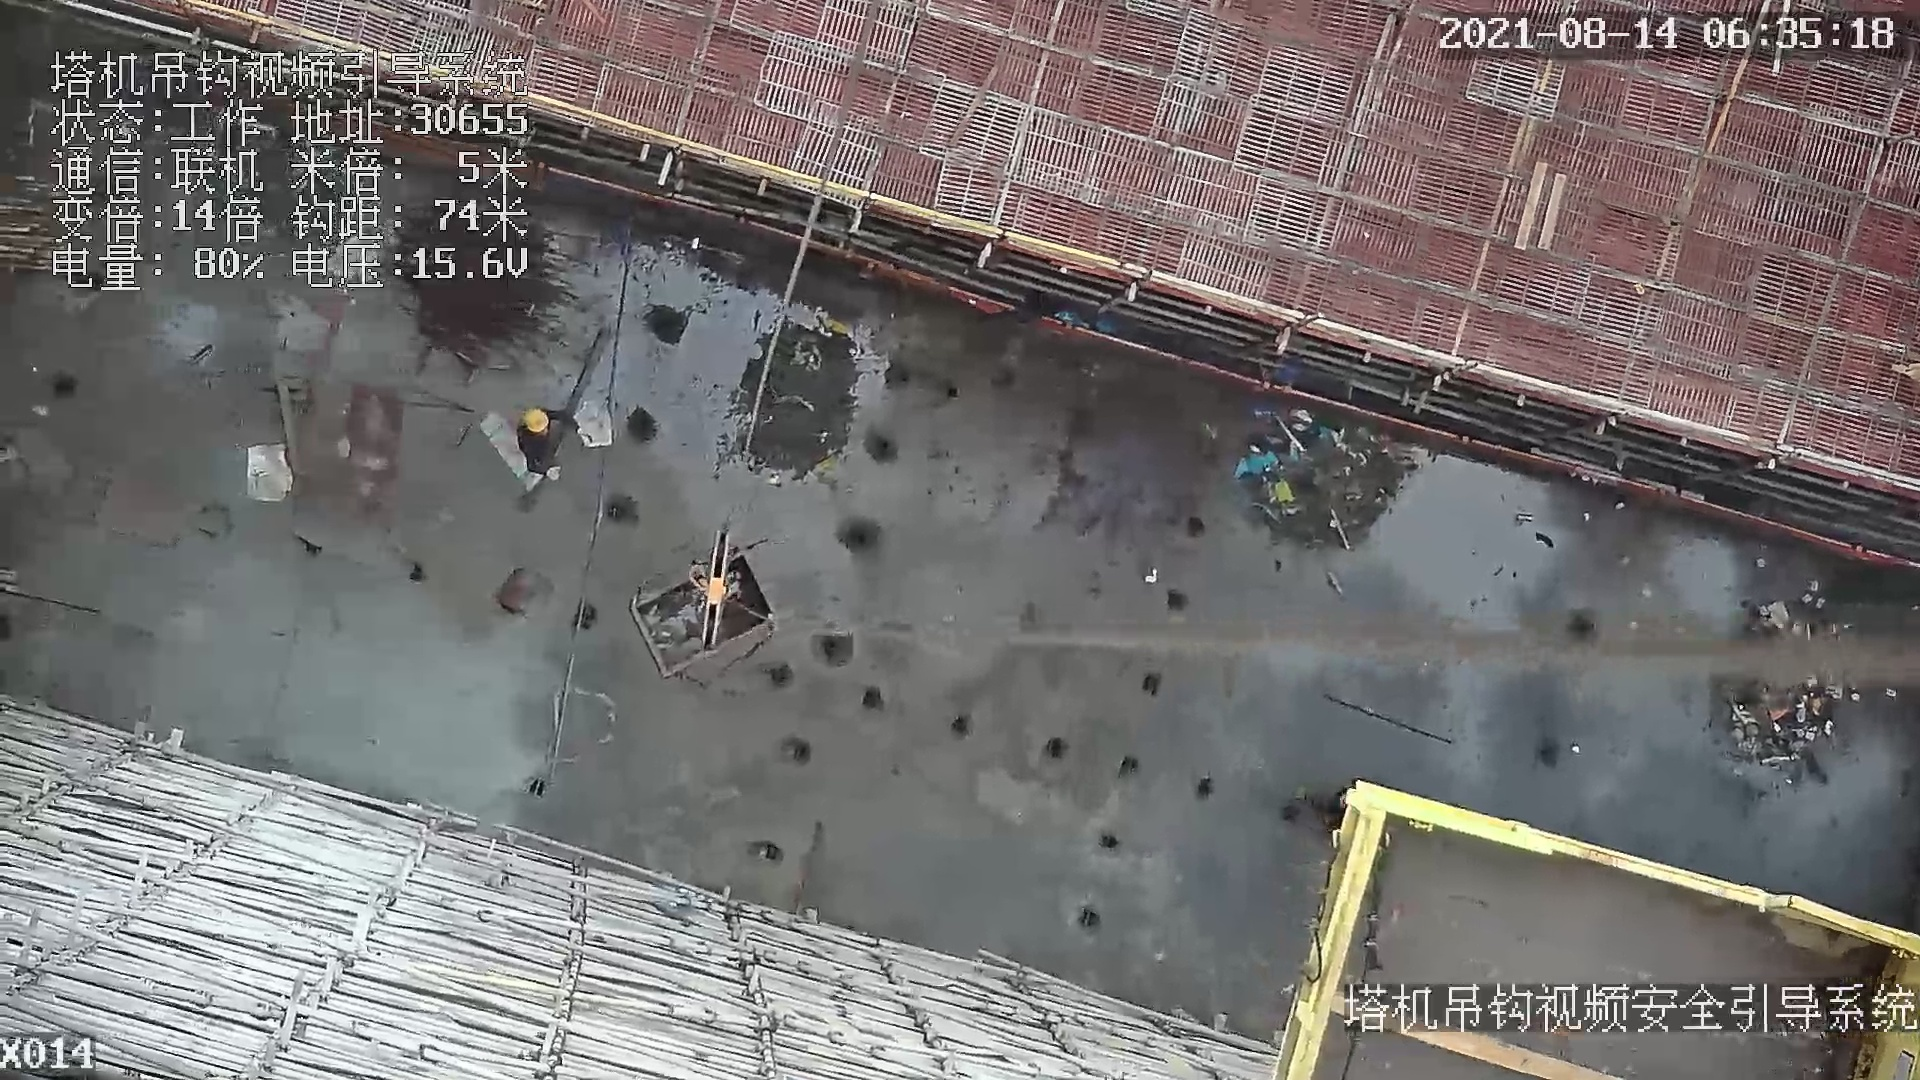helmet: (523, 408, 551, 432)
hook: (694, 532, 733, 647)
hopper: (615, 565, 801, 699)
person: (512, 397, 587, 486)
